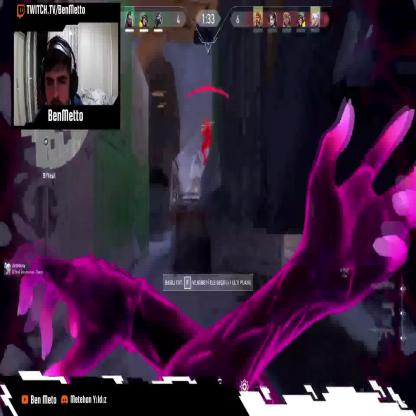enemy: (200, 118, 216, 165)
enemy_head: (205, 119, 208, 124)
